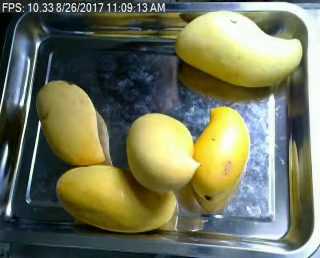Mango: (171, 6, 306, 90), (54, 162, 178, 233), (34, 78, 109, 165), (124, 111, 200, 189), (189, 105, 251, 198)
